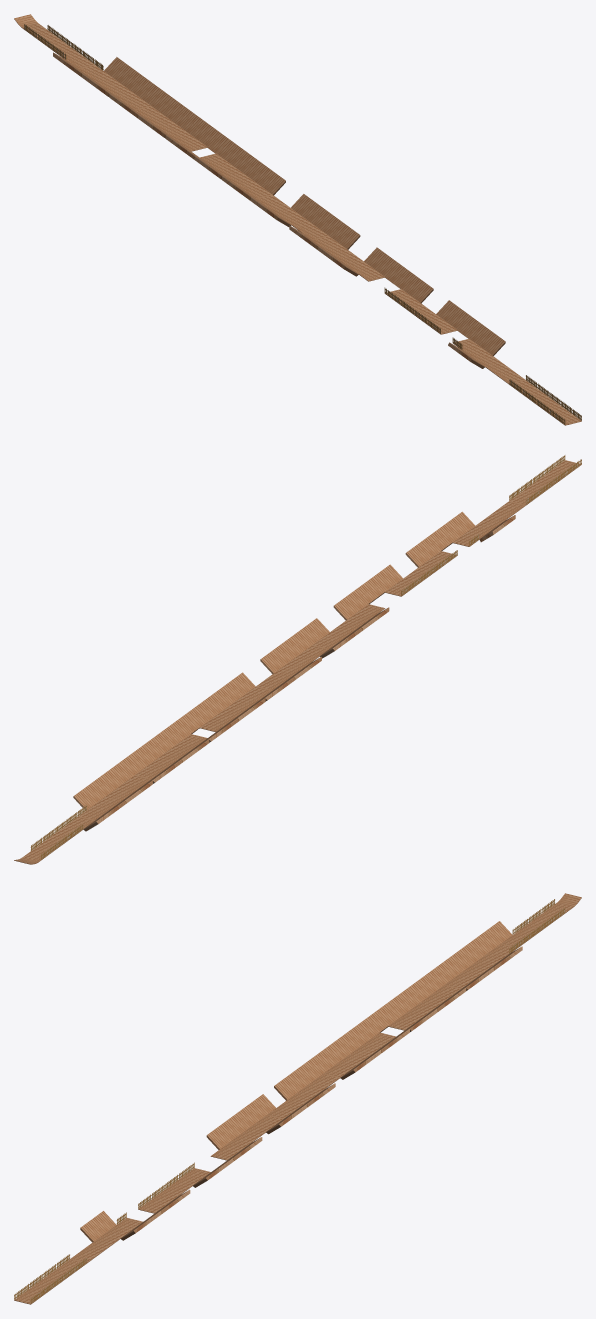
The model's file is TRACK13.fbx.
3 renders of one model, top to bottom at view 1: azimuth 30°, elevation 25°; view 2: azimuth 150°, elevation 25°; view 3: azimuth 330°, elevation 25°, orthographic.
Visible parts, largest first — view 1: Cube.005, Cube.002, Cube.011, Cube.014, Cube.017, Cube.022, Cube.023, Cube.010, Cube.016, Cube.013, Cube.015, Cube.019 (+3 smaller); view 2: Cube.005, Cube.002, Cube.011, Cube.022, Cube.017, Cube.014, Cube.015, Cube.010, Cube.013, Cube.001, Cube.016, Cube.019 (+3 smaller); view 3: Cube.006, Cube.012, Cube.018, Cube.021, Cube.020, Cube.023, Cube.010, Cube.004, Cube.001, Cube.013, Cube.016, Cube.015 (+3 smaller).
Part boxes in pixels (x1,y1,x2,y2): Cube.005: (364,247,433,303); Cube.002: (436,300,505,355); Cube.011: (291,194,360,249); Cube.014: (216,139,285,195); Cube.017: (160,98,229,153); Cube.022: (104,57,172,111); Cube.023: (14,14,94,68); Cube.010: (312,236,385,281); Cube.016: (135,106,207,151); Cube.013: (256,194,328,239); Cube.015: (200,153,271,198); Cube.019: (79,65,150,109); Cube.005: (333,564,402,620); Cube.002: (405,511,475,567); Cube.011: (260,618,329,673); Cube.022: (73,755,142,809); Cube.017: (130,713,199,768); Cube.014: (186,672,255,728); Cube.015: (200,686,271,731); Cube.010: (312,604,385,649); Cube.013: (256,645,328,690); Cube.001: (452,501,525,546); Cube.016: (135,734,207,779); Cube.019: (79,775,150,820); Cube.006: (206,1094,275,1149); Cube.012: (274,1044,343,1100); Cube.018: (331,1003,399,1058); Cube.021: (443,921,512,975); Cube.020: (387,962,455,1017); Cube.023: (501,893,581,947); Cube.010: (210,1115,283,1160); Cube.004: (138,1168,210,1213); Cube.001: (70,1218,142,1263); Cube.013: (267,1073,339,1118); Cube.016: (388,985,460,1030); Cube.015: (324,1032,395,1077).
Bounding box in the file's own units: 1384 × 394 × 28918.
Materials: 3 (3 with a texture image).
